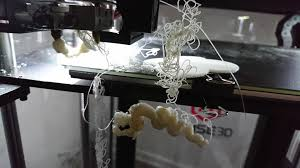fail: (73, 28, 123, 167), (98, 94, 218, 150), (139, 1, 202, 103)
